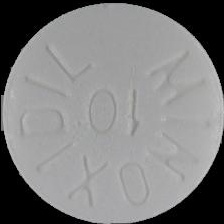68084-205: (0, 0, 224, 224)
